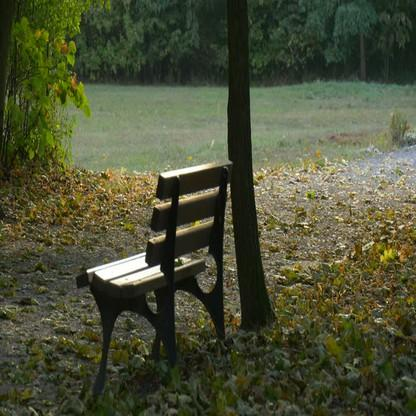obstacle: (76, 145, 237, 395)
